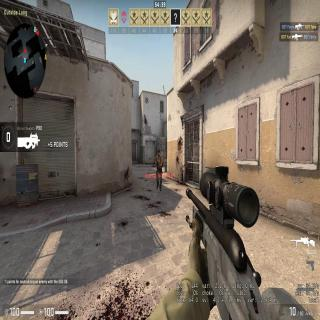T-Body: (155, 150, 164, 190)
T-Head: (157, 151, 160, 158)
